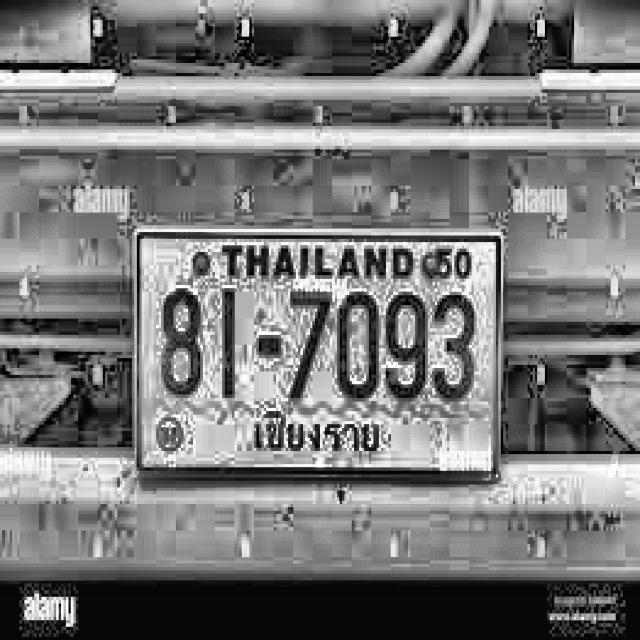license-plate: (134, 227, 507, 472)
